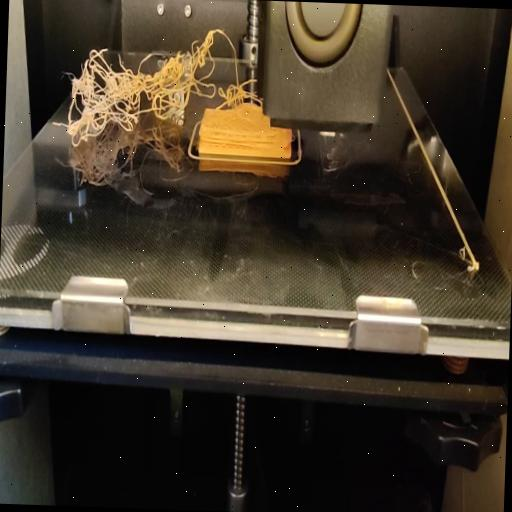spaghetti: (46, 20, 262, 153)
